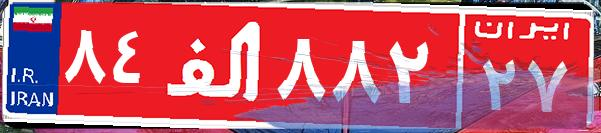2: (385, 28, 445, 110), (475, 38, 525, 113)
4: (110, 28, 158, 105)
7: (525, 38, 570, 115)
8: (273, 28, 330, 110), (330, 28, 385, 110), (57, 26, 110, 107)
الف: (158, 15, 273, 115)
